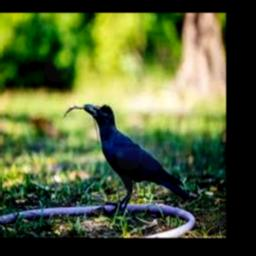Crow: (83, 104, 194, 208)
